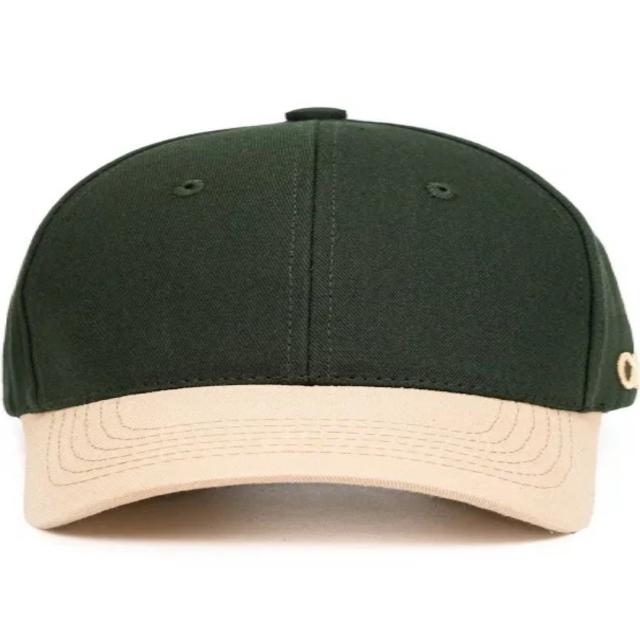Cap: (3, 105, 640, 535)
